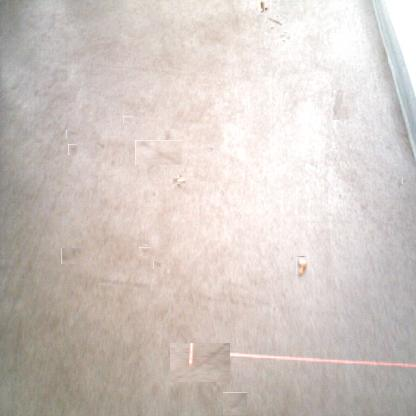dirty: (296, 256, 307, 274), (174, 175, 185, 186), (256, 3, 267, 13)
mark: (175, 337, 225, 387), (140, 134, 177, 170), (224, 392, 247, 416), (334, 90, 352, 120), (61, 248, 82, 264), (269, 15, 282, 29), (96, 138, 106, 152), (279, 32, 290, 42), (66, 130, 79, 138), (68, 144, 77, 155), (153, 259, 162, 269), (141, 246, 150, 254), (124, 116, 131, 123), (207, 145, 214, 152), (337, 192, 342, 200), (402, 176, 407, 184), (135, 119, 141, 125), (151, 190, 155, 198), (111, 158, 115, 166)
